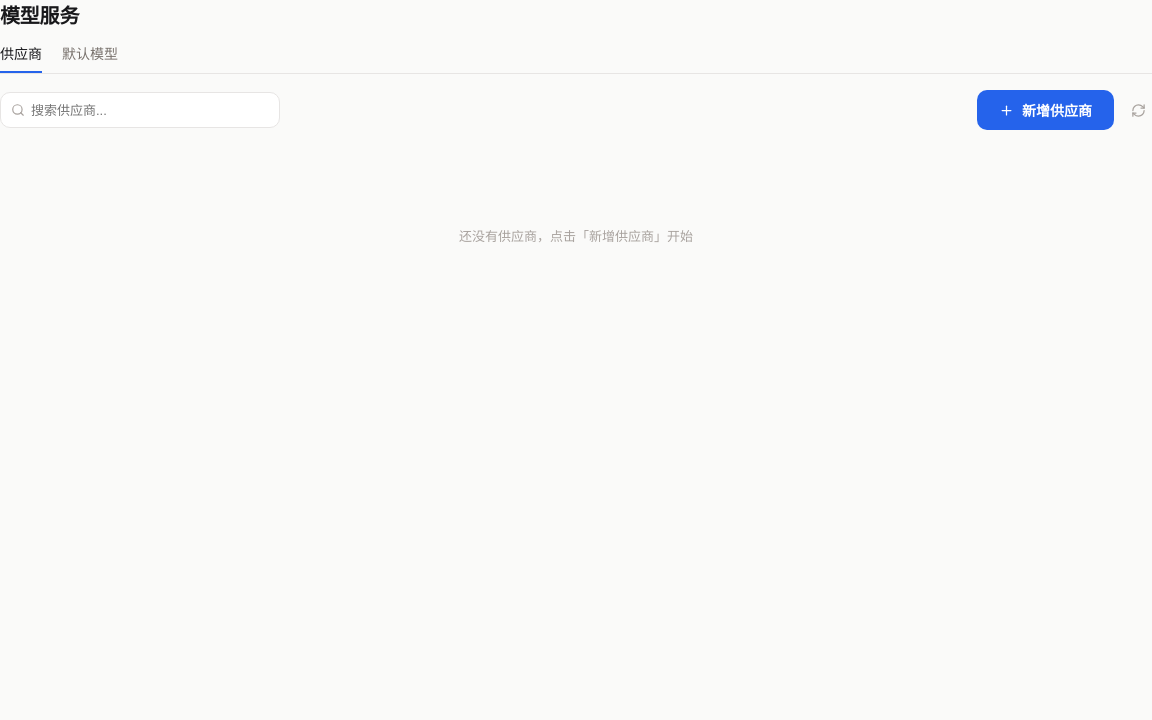
Test case: new provider dialog › switching provider type offers that type’s capabilities
Click the button "新增供应商" at [1046, 110], box [977,90,1114,130]
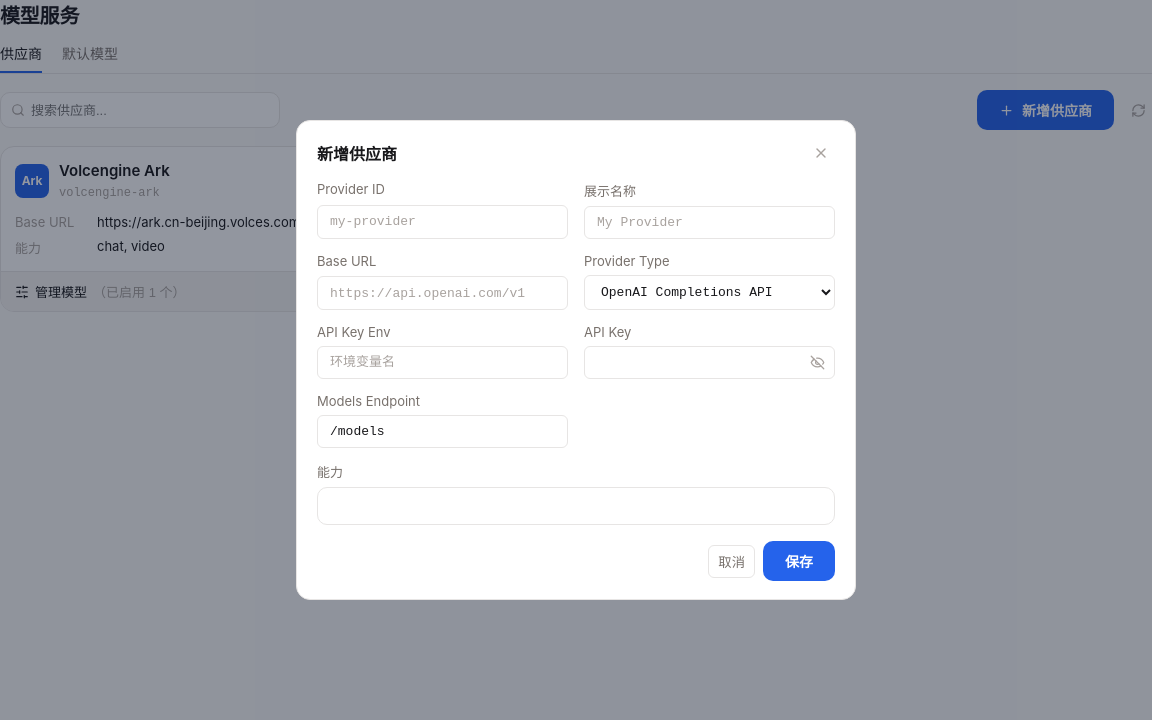
Select "Volcengine Ark API" in the dropdown showing "OpenAI Completions API" at [710, 292], box [584,275,835,310]
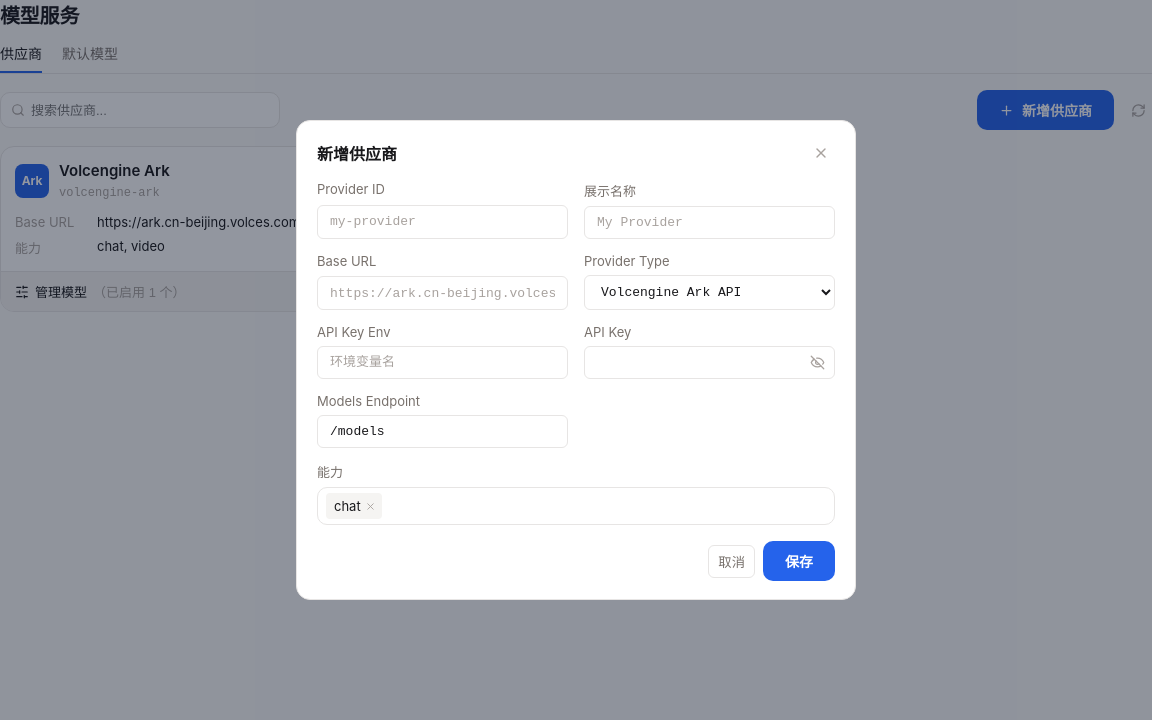
Click the dropdown named "能力" at [576, 506], box [317,487,835,525]
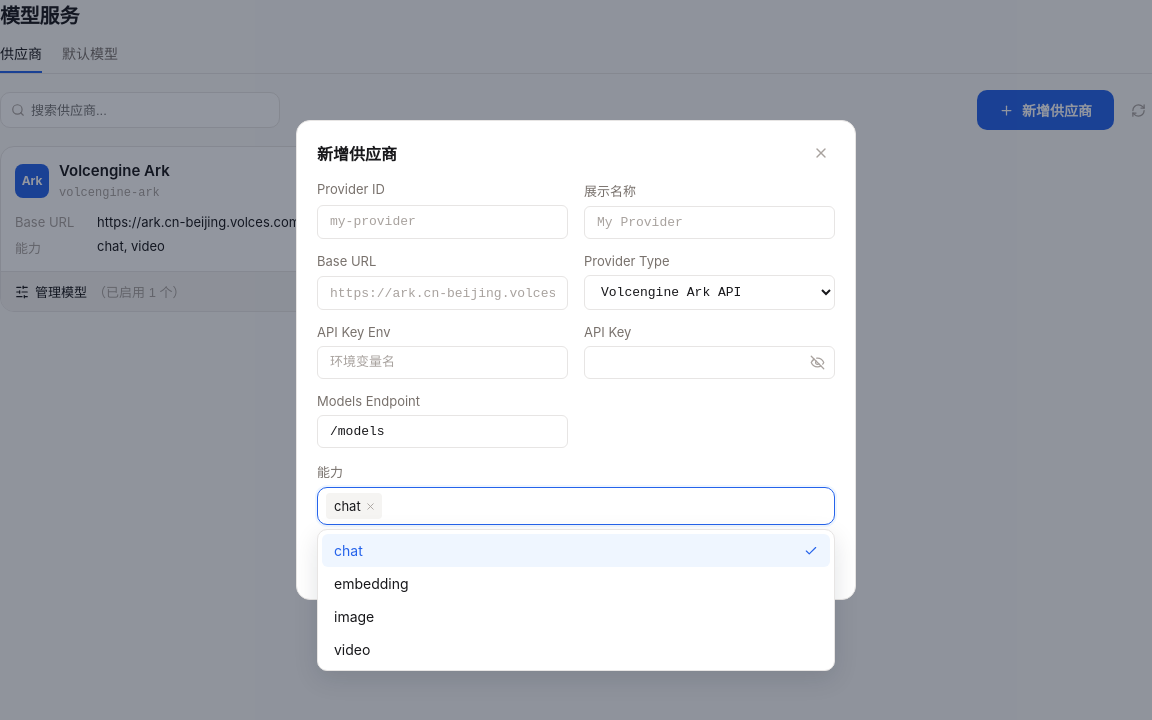
Expected: the options read "chat", "embedding", "image", "video", in this order, [322,534,830,567]; [334,575,409,592]; [334,608,374,625]; [334,641,370,658]
